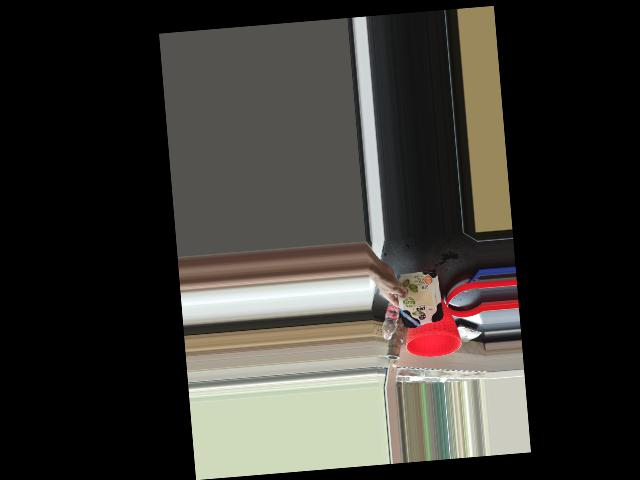cheese: (386, 274, 444, 330)
